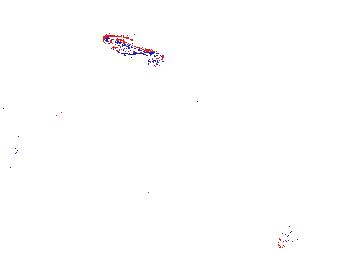X-ray fish: (84, 97, 129, 122)
red belly glassfish: (101, 34, 162, 60), (274, 217, 294, 249), (145, 52, 165, 70)
